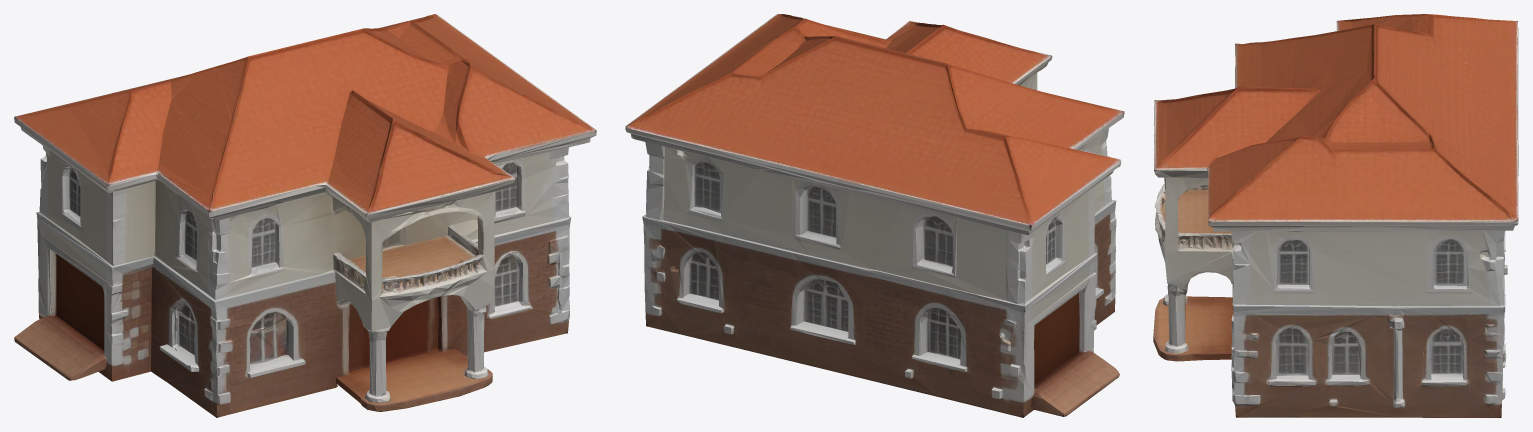
Rendered from lm_house.glb.
The picture shows the model from 3 angles, left to right: view 1: azimuth 30°, elevation 25°; view 2: azimuth 150°, elevation 25°; view 3: azimuth 270°, elevation 25°; orthographic projection. The views are drawn at different scales.
Parts seen in each view (by area): view 1: geometry_0; view 2: geometry_0; view 3: geometry_0.
Part boxes in pixels (<box>): geometry_0: <box>14,14,596,417</box>; geometry_0: <box>625,14,1124,417</box>; geometry_0: <box>1153,14,1518,417</box>.
Bounding box in the file's own units: 0.9993 × 0.6177 × 0.7383.
1 material, 1 textured.
